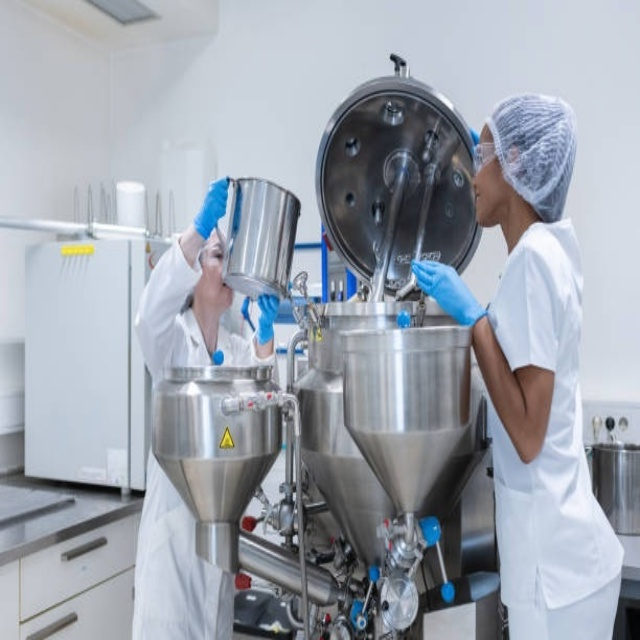Gafas: (198, 230, 230, 269), (472, 141, 500, 169)
Guantes: (408, 253, 489, 329), (193, 171, 234, 238), (256, 292, 284, 344)
Sin_mascara: (472, 179, 492, 220)
